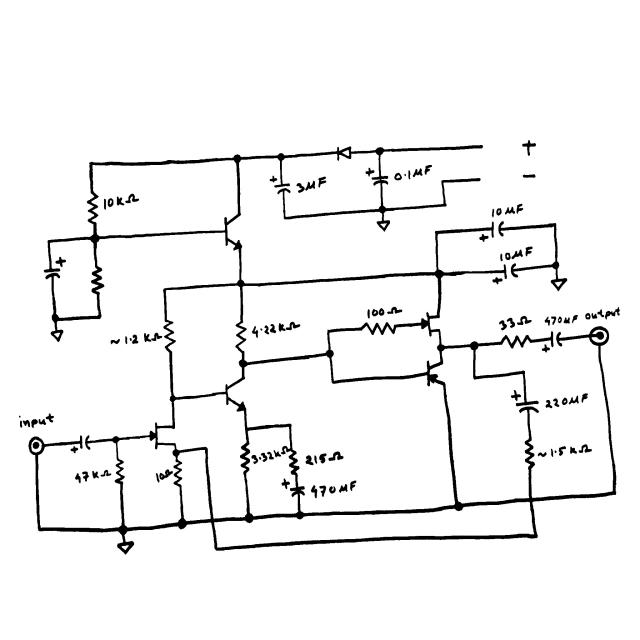capacitor: (509, 390, 541, 414), (42, 256, 68, 282), (478, 220, 506, 244), (492, 263, 519, 285), (541, 328, 564, 353), (364, 166, 390, 187), (268, 174, 292, 195), (281, 478, 306, 498), (70, 434, 92, 454)
crossover: (525, 494, 537, 505), (208, 517, 217, 525)
diode: (336, 145, 353, 162)
ground: (116, 541, 135, 556), (550, 277, 568, 292), (50, 328, 64, 343), (376, 219, 391, 232)
junction: (176, 518, 188, 530), (89, 233, 101, 245), (452, 500, 464, 512), (117, 524, 129, 536), (244, 512, 255, 524), (374, 146, 385, 157), (324, 348, 335, 359), (433, 268, 444, 279), (294, 509, 305, 520), (469, 340, 480, 351), (377, 204, 388, 214), (168, 393, 178, 404), (232, 153, 242, 164), (235, 278, 246, 288), (551, 259, 561, 270), (238, 358, 248, 368), (111, 434, 121, 444), (276, 152, 286, 162), (609, 488, 619, 498), (530, 530, 540, 540), (50, 313, 60, 323), (436, 343, 446, 352), (160, 285, 170, 294), (87, 159, 96, 168), (95, 312, 103, 321), (45, 237, 53, 246), (329, 378, 338, 386), (172, 448, 180, 457), (550, 221, 558, 229), (242, 425, 250, 433), (36, 525, 44, 533), (324, 327, 332, 335), (286, 421, 294, 429), (519, 368, 527, 376), (471, 374, 479, 382), (433, 229, 440, 237), (202, 445, 210, 452), (212, 545, 220, 552), (439, 178, 446, 185), (441, 201, 448, 208), (282, 214, 289, 221)
resistor: (360, 319, 400, 337), (498, 331, 534, 350), (162, 318, 178, 354), (89, 263, 105, 297), (233, 318, 248, 354), (85, 190, 100, 226), (522, 435, 537, 470), (239, 440, 253, 474), (114, 457, 126, 485), (288, 448, 300, 476), (172, 459, 184, 487)
source: (376, 218, 391, 232)
terminal: (588, 325, 611, 348), (28, 436, 46, 456), (477, 142, 486, 151), (476, 175, 485, 184)
text: (538, 443, 593, 460), (251, 320, 302, 338), (310, 480, 357, 499), (109, 331, 163, 347), (543, 392, 589, 410), (251, 445, 289, 465), (394, 164, 433, 181), (102, 192, 141, 209), (17, 412, 55, 429), (74, 468, 113, 484), (304, 451, 344, 466), (497, 314, 533, 330), (295, 176, 328, 193), (499, 245, 534, 261), (584, 306, 621, 321), (365, 305, 404, 319), (490, 203, 524, 218), (543, 314, 579, 327), (521, 139, 538, 157), (154, 468, 173, 484), (521, 171, 538, 181)
transistor: (221, 212, 245, 252), (149, 421, 179, 450), (224, 376, 248, 412), (424, 358, 447, 387), (419, 311, 443, 337)
